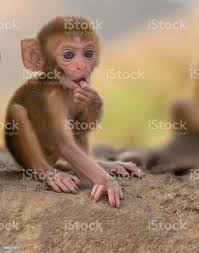monkey: (11, 20, 129, 213)
